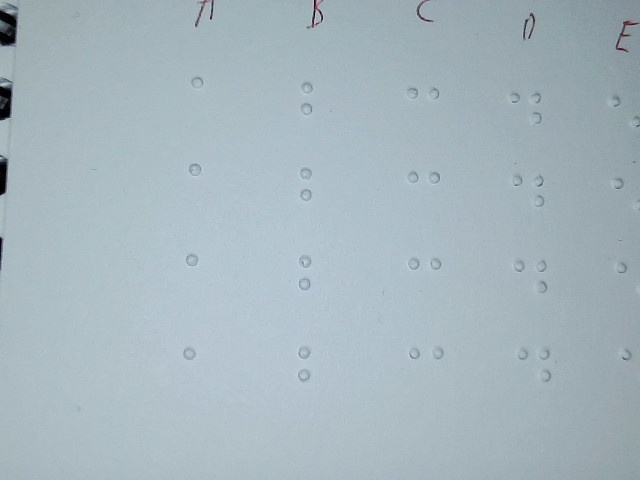A: (181, 68, 234, 138), (182, 154, 235, 224), (179, 244, 232, 314), (176, 338, 229, 408)
B: (293, 73, 347, 142), (292, 161, 346, 230), (290, 249, 344, 318), (290, 337, 344, 406)
C: (397, 77, 452, 146), (397, 159, 452, 228), (398, 247, 453, 316), (398, 336, 453, 405)
